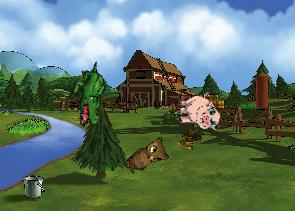crocodile: (64, 61, 115, 128)
owl: (122, 132, 175, 184)
pig: (175, 92, 220, 133)
